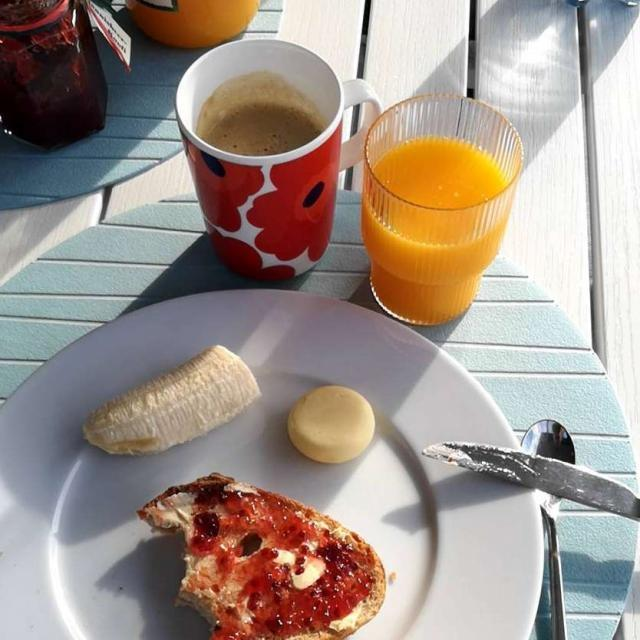banana: (68, 350, 265, 443)
bread: (148, 497, 380, 632)
butter: (258, 540, 324, 580)
coffee: (204, 115, 297, 156)
jam: (201, 510, 372, 622)
juice: (377, 144, 487, 296)
